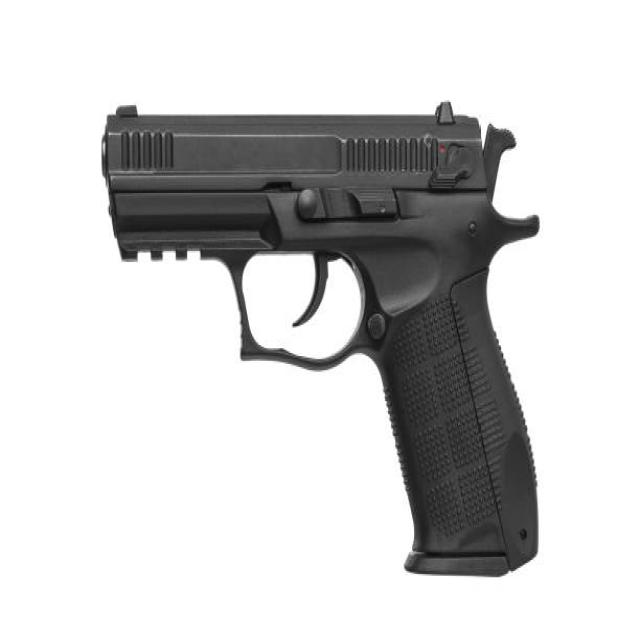pistol: (93, 97, 546, 591)
